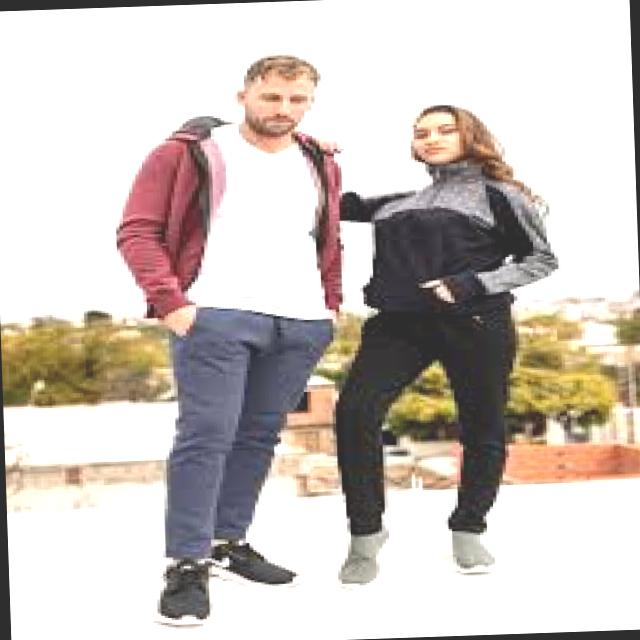face: (236, 75, 313, 139), (410, 113, 462, 164)
foot-wear: (208, 541, 299, 589), (154, 559, 209, 627), (337, 529, 388, 588), (452, 532, 494, 575)
lower-wear: (164, 307, 332, 559), (335, 309, 515, 535)
top-wear: (111, 117, 343, 325), (350, 176, 560, 308)
